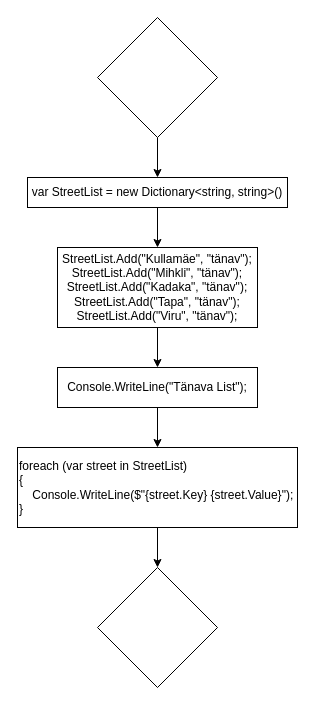
This 315x705 diagram has some shape labels left out. Here are the shapes that lost their labels. From the top down, the centre of each, then its label:
At pixel 157 77: "START".
At pixel 157 627: "END".
